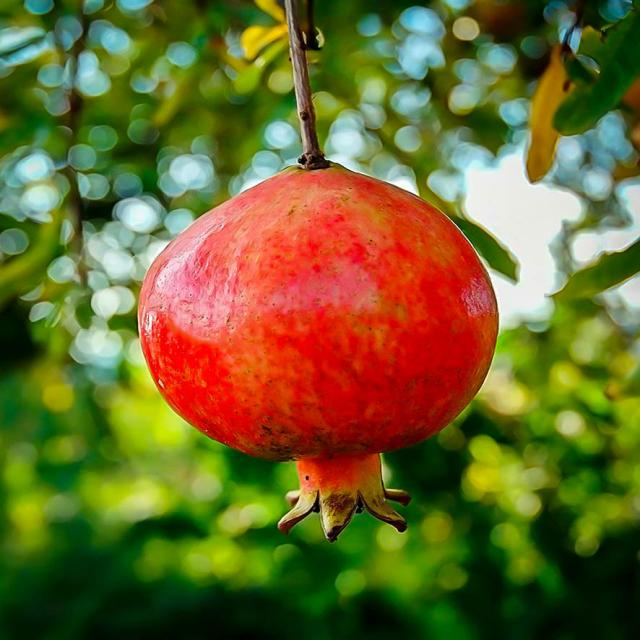apple: (138, 161, 507, 547)
